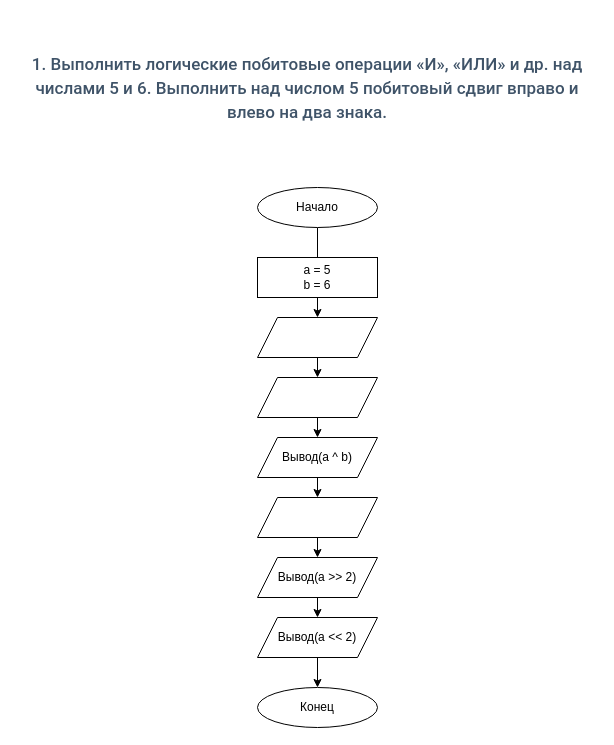
This 614x745 diagram has some shape labels left out. Here are the shapes that lost their labels. From the top down, the centre of each, then its label:
At pixel 317 337: "Вывод(a & b)".
At pixel 317 397: "Вывод(a | b)".
At pixel 317 517: "Вывод(~a)".
